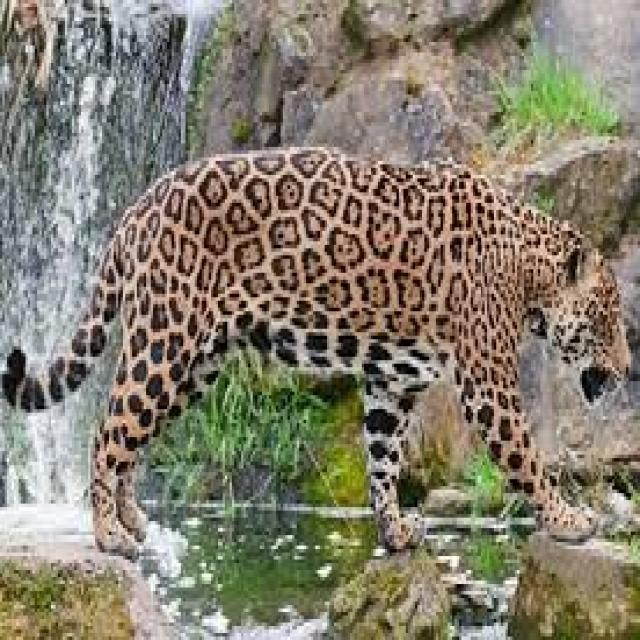Jaguar: (0, 140, 638, 577)
